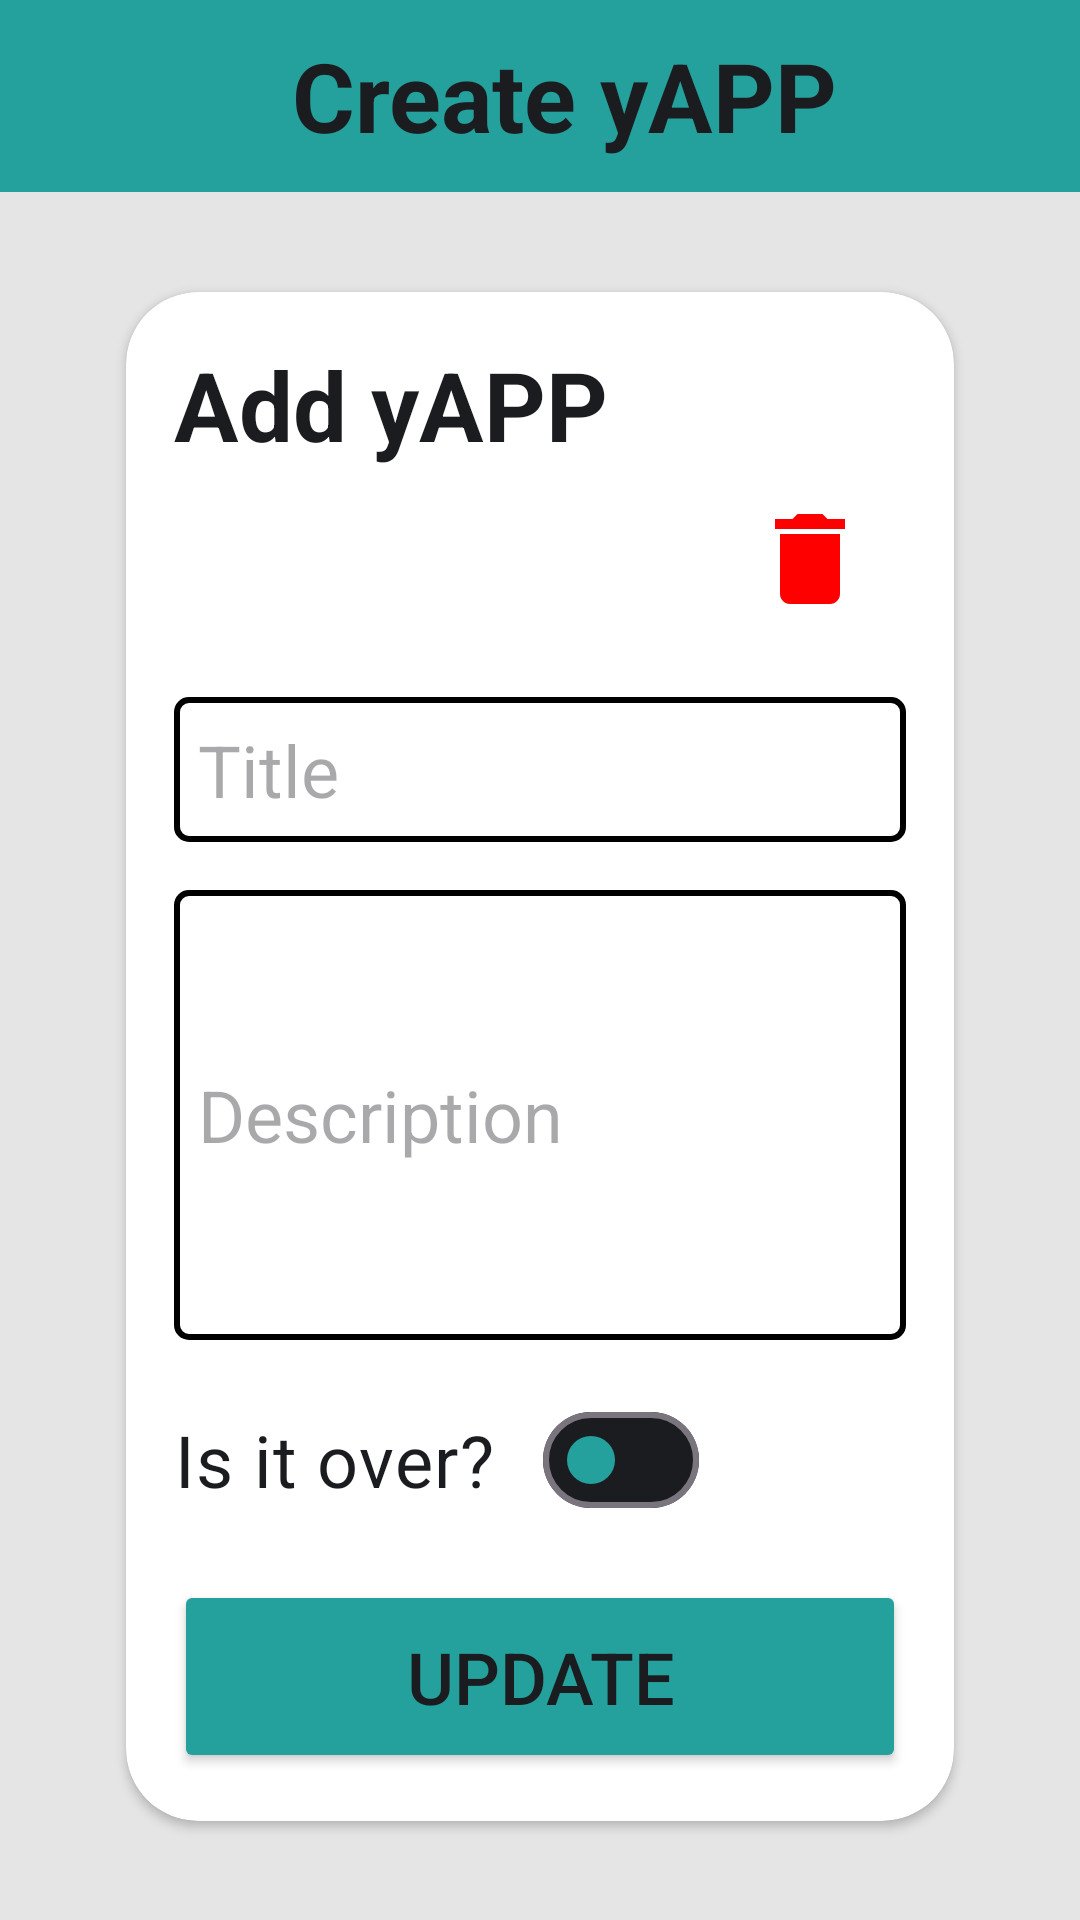

Screen size 1080 x 1920. Icon name, then its box in pixels as (x1,y1,x2,y2):
delete: (775,514,845,604)
